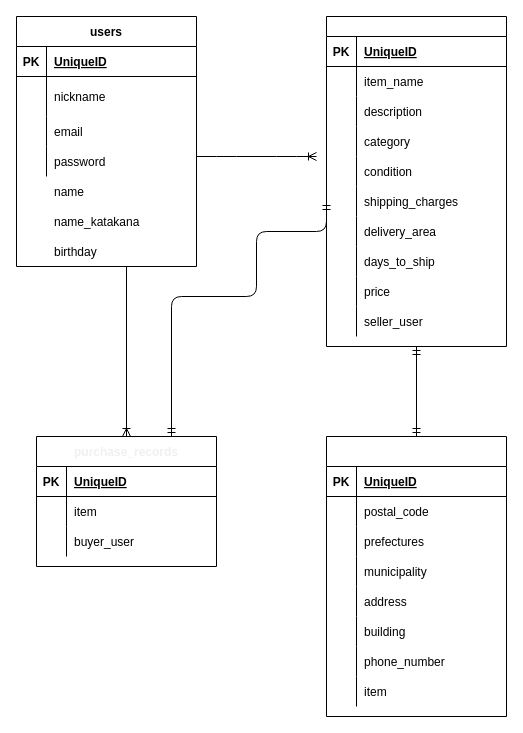
Image size: 523x733. Some labels were removed from this diagram. Here are the shapes that lost their labels. From the top down, the box of each, then its label:
(326, 16, 506, 346): items
(326, 436, 506, 716): deliveries
